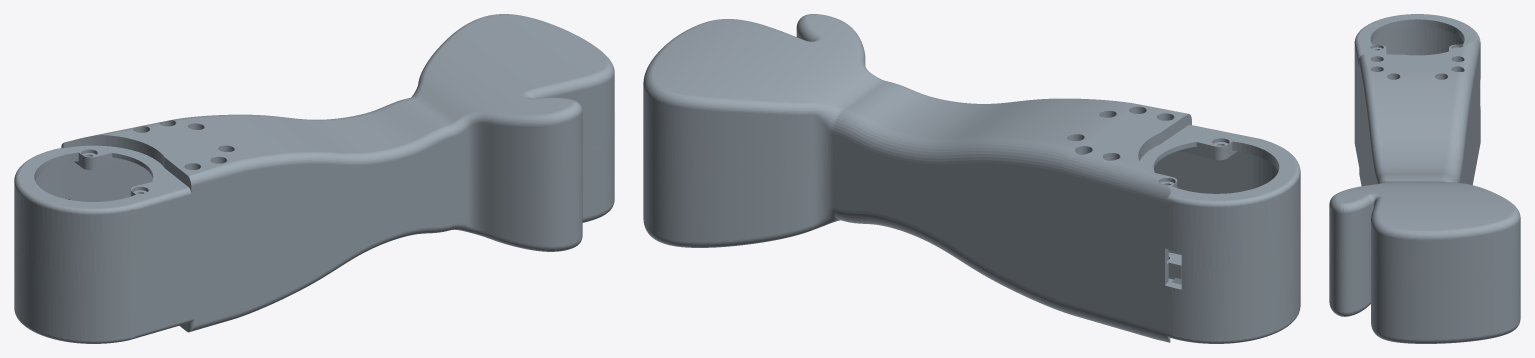
Rendered from FLO LOWER ARM - LEFT.dae.
The picture shows the model from 3 angles, left to right: view 1: azimuth 30°, elevation 25°; view 2: azimuth 150°, elevation 25°; view 3: azimuth 270°, elevation 25°; orthographic projection. The views are drawn at different scales.
Parts seen in each view (by area): view 1: 5c8190589f8e2b164b0c7e1f (×2); view 2: 5c8190589f8e2b164b0c7e1f (×2); view 3: 5c8190589f8e2b164b0c7e1f (×2).
Boxes of the visible parts, box(x1,y1,x2,y2) form: 5c8190589f8e2b164b0c7e1f (×2): box(14, 14, 614, 343); 5c8190589f8e2b164b0c7e1f (×2): box(643, 14, 1300, 343); 5c8190589f8e2b164b0c7e1f (×2): box(1329, 14, 1520, 343).
Size of the model in its own units: 0.1772 by 0.064 by 0.0458.
